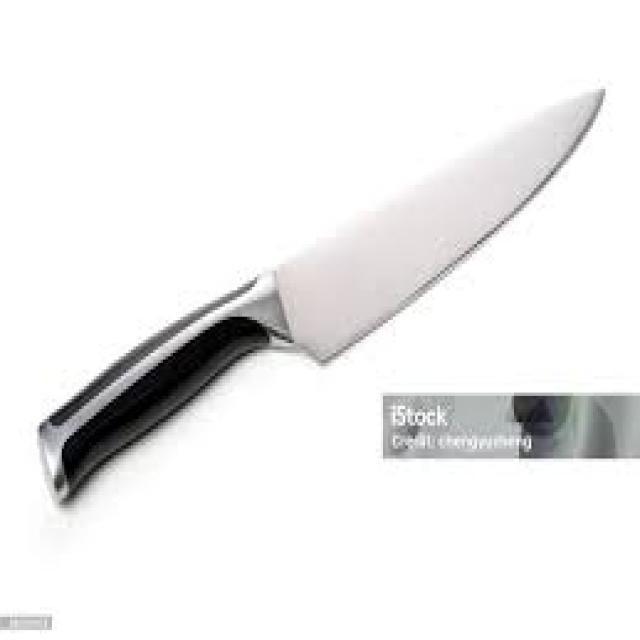Knife: (34, 82, 606, 505)
